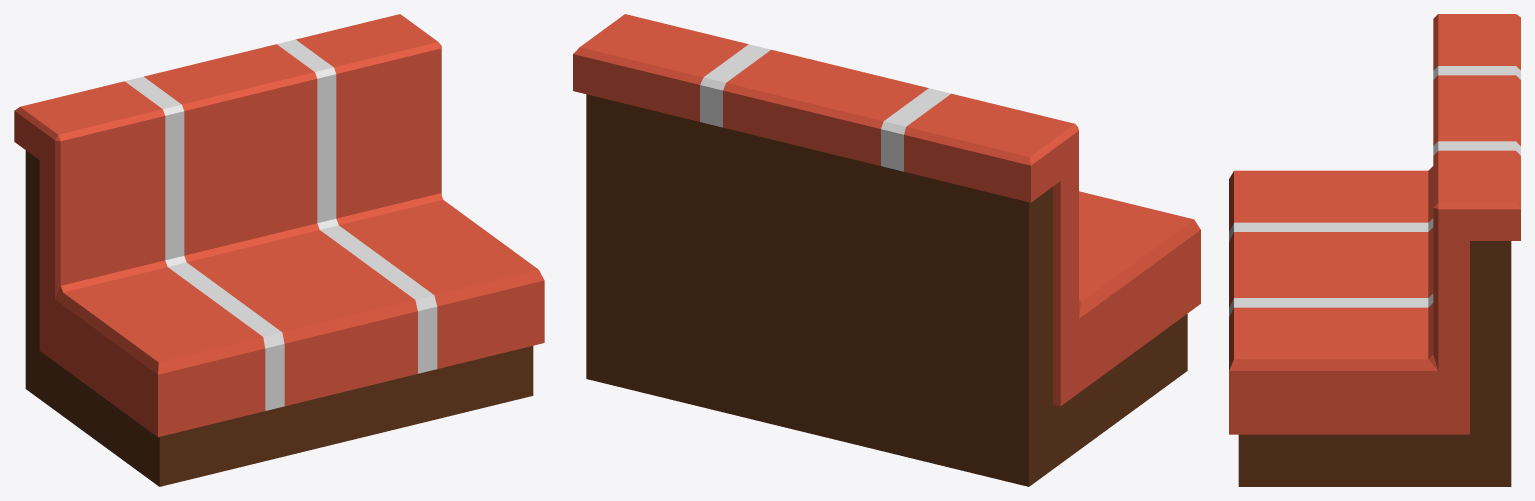
Rendered from Seat01.fbx.
The picture shows the model from 3 angles, left to right: view 1: azimuth 30°, elevation 25°; view 2: azimuth 150°, elevation 25°; view 3: azimuth 270°, elevation 25°; orthographic projection. The views are drawn at different scales.
Parts seen in each view (by area): view 1: Seat01; view 2: Seat01; view 3: Seat01.
Part boxes in pixels (box(x1,y1,x2,y2)): Seat01: box(14, 14, 544, 486); Seat01: box(573, 14, 1200, 486); Seat01: box(1229, 14, 1520, 486).
Size of the model in its own units: 140 by 97.29 by 90.
